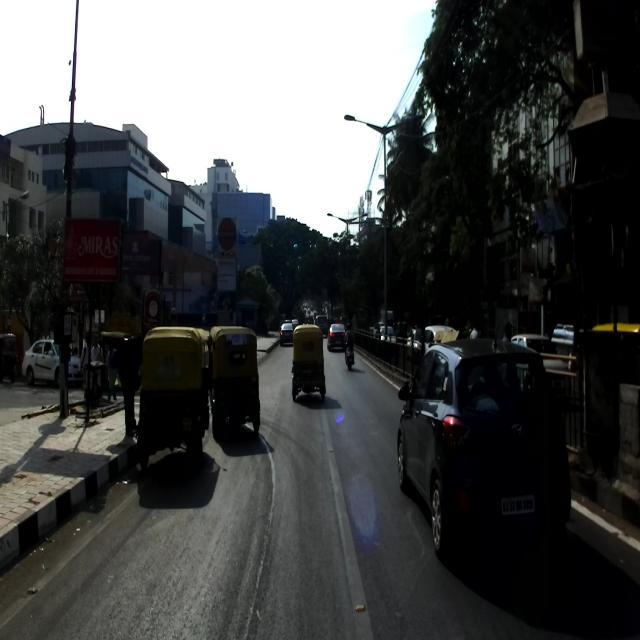Car: (421, 326, 459, 364), (406, 326, 423, 364), (379, 325, 396, 345), (372, 321, 385, 337)
Car_Hyundai: (397, 336, 572, 567)
Car_Maruti-Suzuki: (510, 332, 570, 410), (21, 337, 81, 387)
autorickshaw: (136, 326, 210, 472), (207, 325, 260, 437), (291, 324, 326, 404), (98, 330, 141, 392), (0, 333, 18, 383), (591, 321, 640, 339)
scooter: (344, 340, 355, 370)
